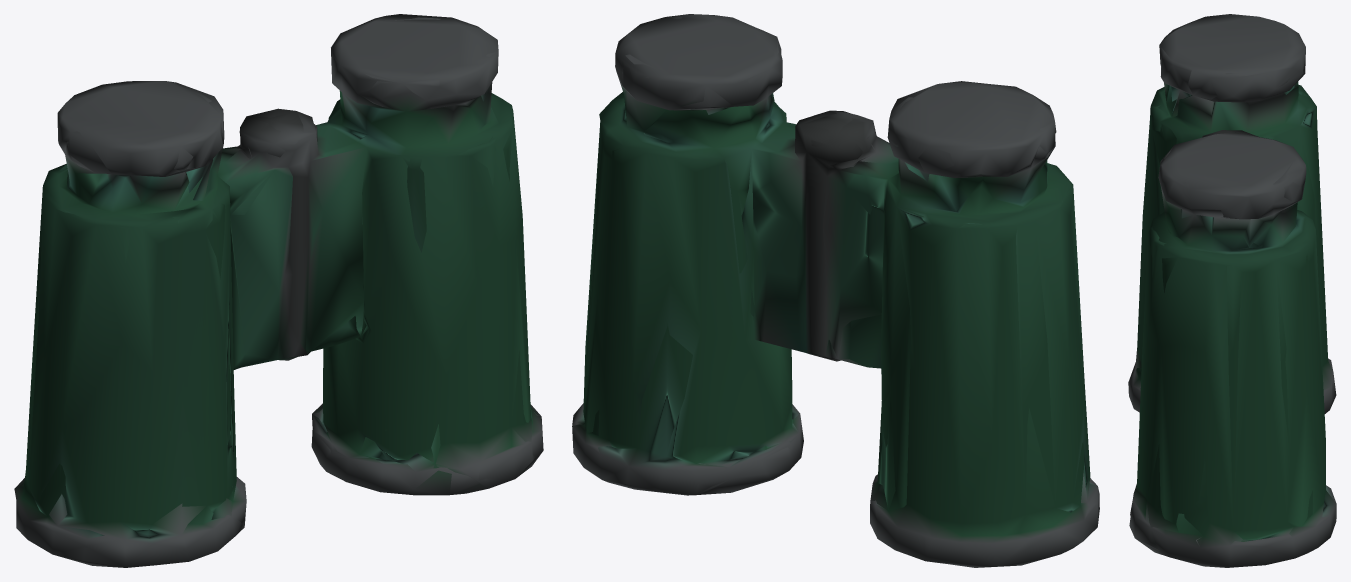
File: gen3d-binocular-lod0.glb
3 renders of one model, left to right at view 1: azimuth 30°, elevation 25°; view 2: azimuth 150°, elevation 25°; view 3: azimuth 270°, elevation 25°, orthographic. The views are drawn at different scales.
Parts seen in each view (by area): view 1: part_0; view 2: part_0; view 3: part_0.
Part boxes in pixels (x1,y1,x2,y2): part_0: (14, 14, 543, 567); part_0: (572, 14, 1099, 567); part_0: (1128, 14, 1336, 567).
Size of the model in its own units: 1.28 by 1 by 0.5247.
